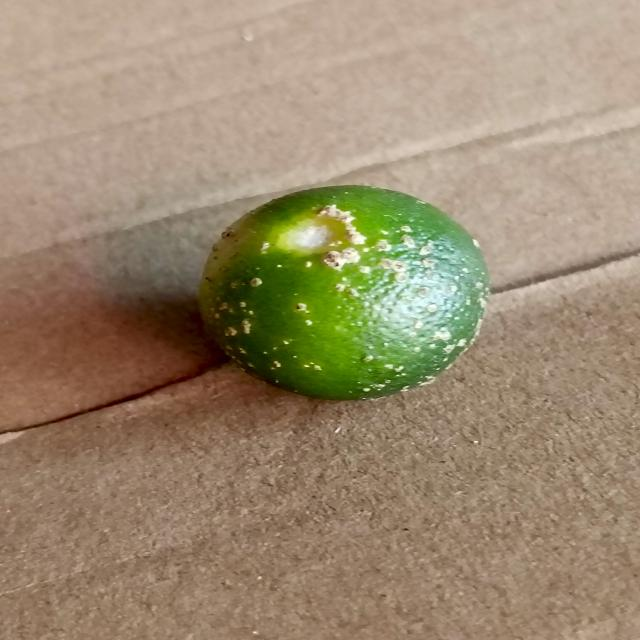scab: (196, 183, 492, 406)
